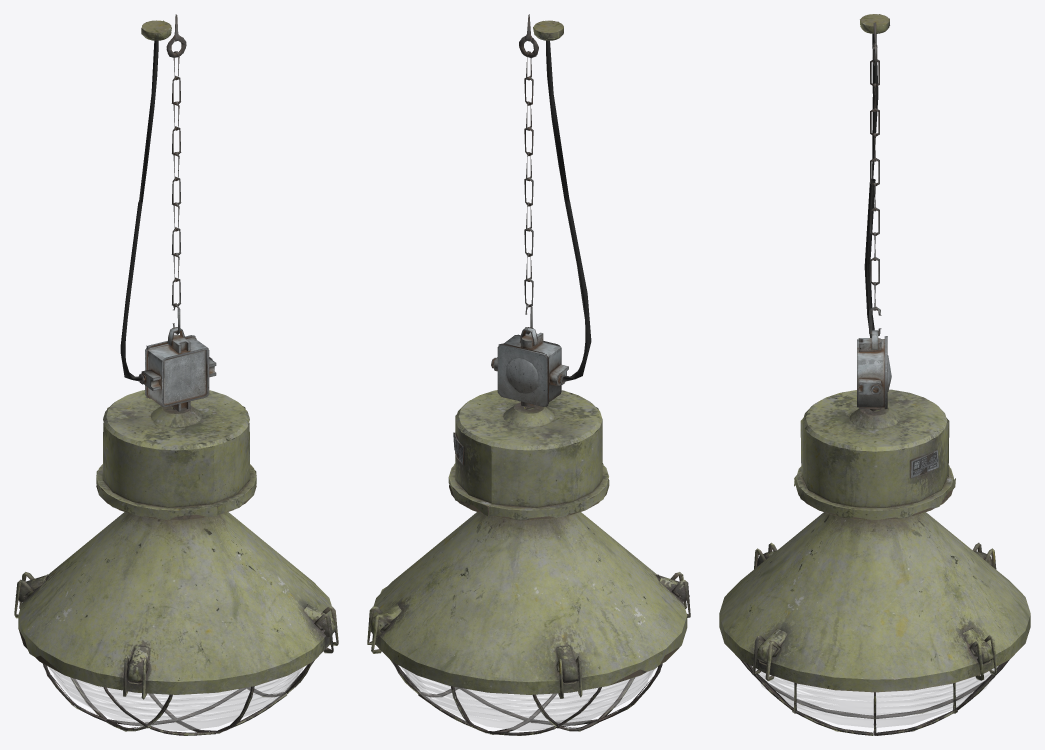
3 views of the same model, side by side, from view 1: azimuth 30°, elevation 25°; view 2: azimuth 150°, elevation 25°; view 3: azimuth 270°, elevation 25° (orthographic).
Parts seen in each view (by area): view 1: hanging_industrial_lamp.001; view 2: hanging_industrial_lamp.001; view 3: hanging_industrial_lamp.001.
Boxes of the visible parts, left/top/right/bottom form: hanging_industrial_lamp.001: left=14, top=14, right=338, bottom=735; hanging_industrial_lamp.001: left=367, top=14, right=690, bottom=735; hanging_industrial_lamp.001: left=719, top=14, right=1030, bottom=735.
Size of the model in its own units: 0.5496 by 1.36 by 0.5496.
2 materials, 1 textured.
